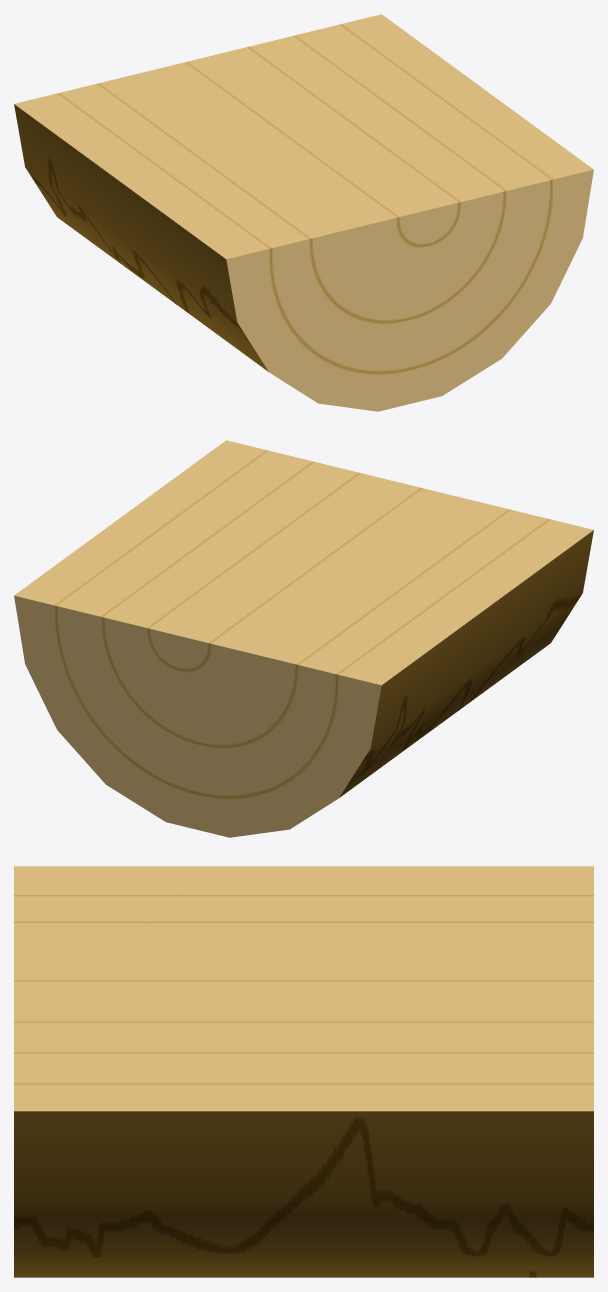
File: Half Log.FBX
The picture shows the model from 3 angles, top to bottom: view 1: azimuth 30°, elevation 25°; view 2: azimuth 150°, elevation 25°; view 3: azimuth 270°, elevation 25°; orthographic projection. The views are drawn at different scales.
Parts seen in each view (by area): view 1: Cylinder001; view 2: Cylinder001; view 3: Cylinder001.
Boxes of the visible parts, bbox=[...] form: Cylinder001: bbox=[14, 14, 593, 411]; Cylinder001: bbox=[14, 440, 593, 837]; Cylinder001: bbox=[14, 866, 593, 1277].
Bounding box in the file's own units: 60 × 60 × 29.54.
Materials: 1 (1 with a texture image).
